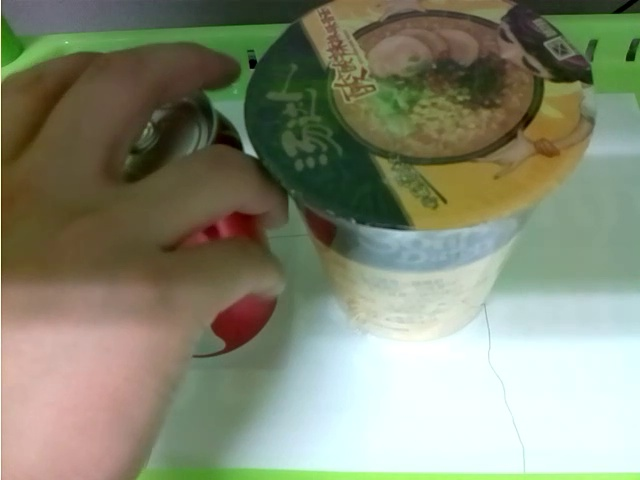cocacola: (117, 91, 276, 363)
hand: (1, 42, 286, 458)
noodles: (243, 1, 595, 340)
